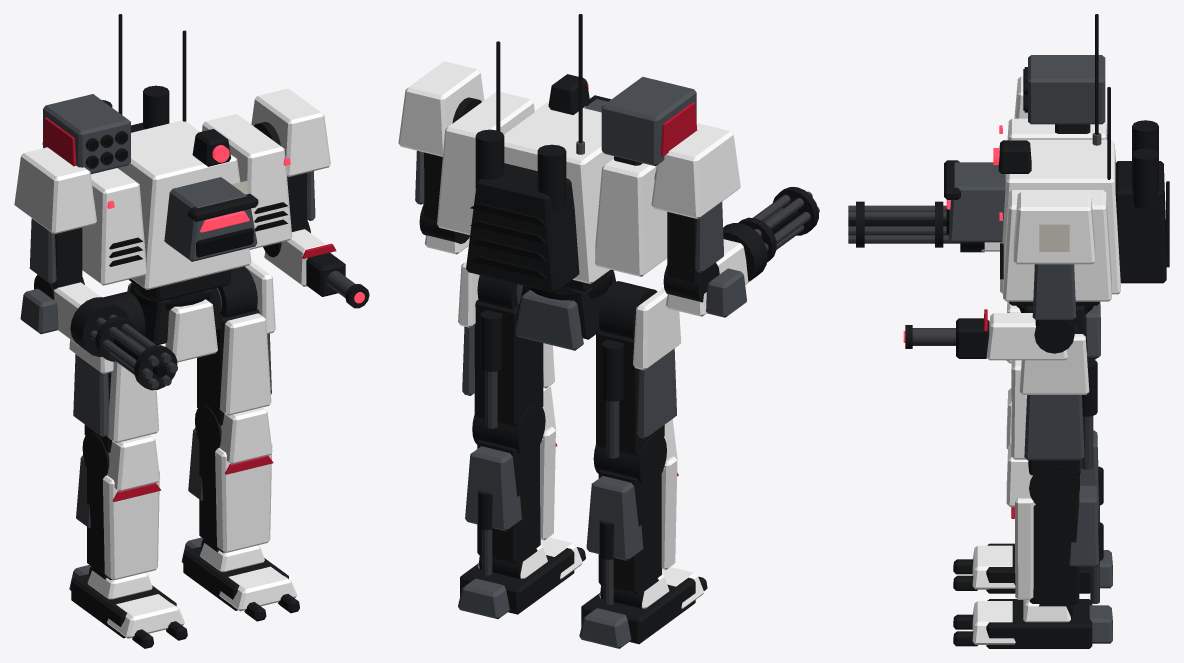
The model's file is striker_C.glb.
3 views of the same model, side by side, from view 1: azimuth 30°, elevation 25°; view 2: azimuth 150°, elevation 25°; view 3: azimuth 270°, elevation 25° (orthographic). The views are drawn at different scales.
Visible parts, largest first — view 1: torso_mesh, knee_L_mesh, knee_R_mesh, hip_L_mesh, shoulder_R_mesh, hip_R_mesh, shoulder_L_mesh, ankle_L_mesh, ankle_R_mesh, pelvis_mesh, elbow_R_mesh, elbow_L_mesh (+1 smaller); view 2: torso_mesh, hip_R_mesh, knee_L_mesh, knee_R_mesh, hip_L_mesh, shoulder_R_mesh, shoulder_L_mesh, ankle_R_mesh, ankle_L_mesh, elbow_R_mesh, pelvis_mesh, gatling_spin_mesh (+1 smaller); view 3: torso_mesh, knee_L_mesh, hip_L_mesh, shoulder_L_mesh, ankle_L_mesh, elbow_L_mesh, gatling_spin_mesh, ankle_R_mesh, pelvis_mesh, knee_R_mesh, DECAL_mark_L.
Boxes of the visible parts, left/top/right/bottom form: torso_mesh: left=42, top=14, right=292, bottom=301; knee_L_mesh: left=188, top=405, right=273, bottom=552; knee_R_mesh: left=76, top=432, right=161, bottom=580; hip_L_mesh: left=197, top=261, right=275, bottom=425; shoulder_R_mesh: left=14, top=147, right=96, bottom=289; hip_R_mesh: left=69, top=291, right=159, bottom=452; shoulder_L_mesh: left=251, top=88, right=330, bottom=231; ankle_L_mesh: left=181, top=537, right=299, bottom=621; ankle_R_mesh: left=69, top=564, right=187, bottom=648; pelvis_mesh: left=127, top=282, right=221, bottom=362; elbow_R_mesh: left=20, top=275, right=129, bottom=356; elbow_L_mesh: left=263, top=221, right=369, bottom=308; torso_mesh: left=437, top=14, right=697, bottom=292; hip_R_mesh: left=596, top=281, right=681, bottom=458; knee_L_mesh: left=465, top=385, right=557, bottom=575; knee_R_mesh: left=586, top=419, right=678, bottom=605; hip_L_mesh: left=458, top=261, right=554, bottom=428; shoulder_R_mesh: left=651, top=123, right=740, bottom=282; shoulder_L_mesh: left=398, top=61, right=484, bottom=219; ankle_R_mesh: left=579, top=567, right=707, bottom=648; ankle_L_mesh: left=458, top=537, right=585, bottom=619; elbow_R_mesh: left=663, top=223, right=767, bottom=317; pelvis_mesh: left=515, top=271, right=615, bottom=350; gatling_spin_mesh: left=738, top=187, right=819, bottom=262; torso_mesh: left=944, top=14, right=1169, bottom=305; knee_L_mesh: left=1006, top=444, right=1103, bottom=604; hip_L_mesh: left=1011, top=323, right=1097, bottom=475; shoulder_L_mesh: left=1013, top=191, right=1095, bottom=326; ankle_L_mesh: left=953, top=597, right=1112, bottom=648; elbow_L_mesh: left=903, top=309, right=1074, bottom=360; gatling_spin_mesh: left=848, top=201, right=960, bottom=247; ankle_R_mesh: left=953, top=543, right=1112, bottom=593; pelvis_mesh: left=1006, top=301, right=1100, bottom=363; knee_R_mesh: left=1006, top=388, right=1103, bottom=521; DECAL_mark_L: left=1039, top=224, right=1069, bottom=251.
Size of the model in its own units: 5.57 by 10.53 by 5.3.
